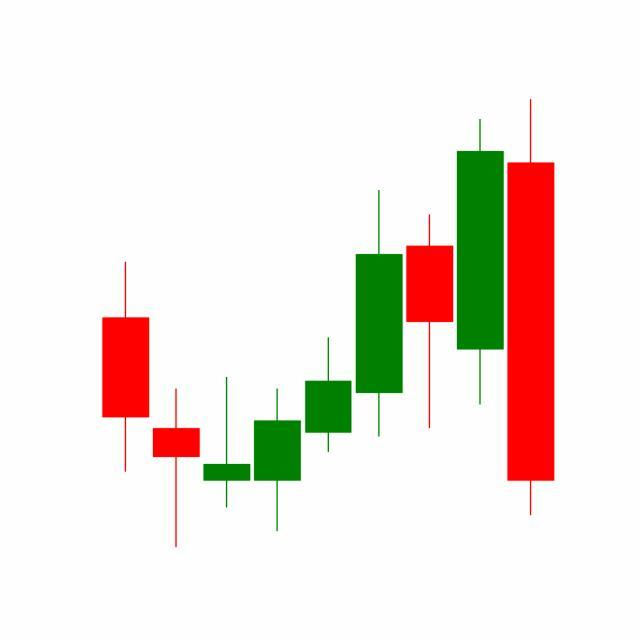Hikkake Pattern: (252, 115, 506, 537)
